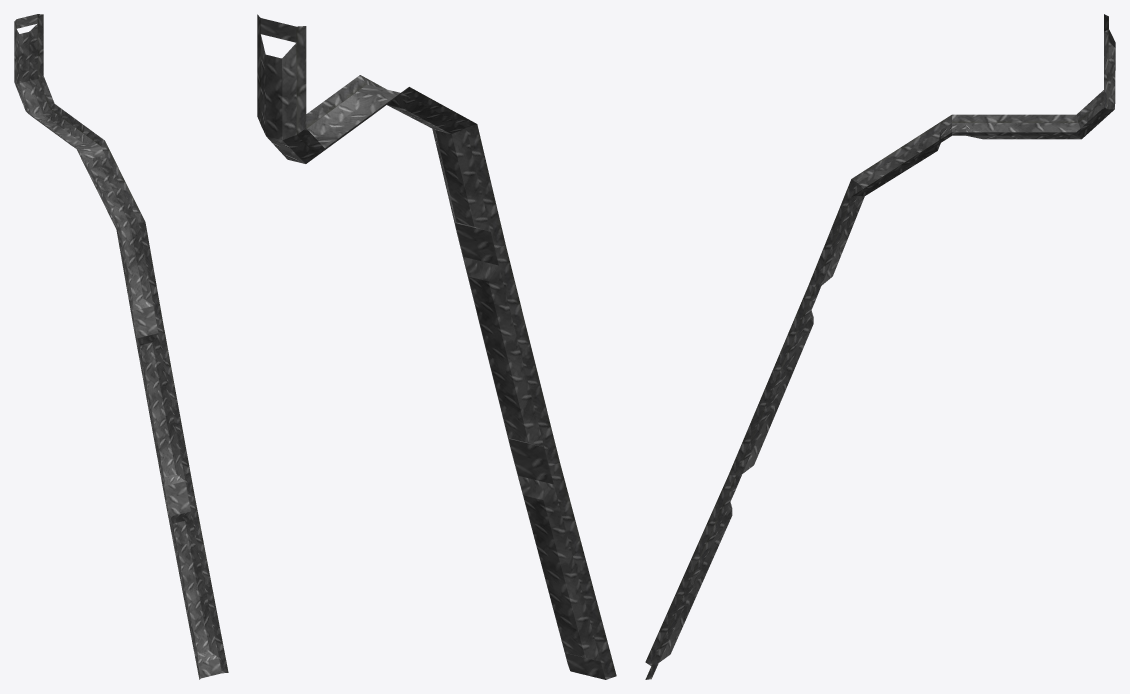
File: zid_bocni2_testiram.obj
The picture shows the model from 3 angles, left to right: view 1: azimuth 30°, elevation 25°; view 2: azimuth 150°, elevation 25°; view 3: azimuth 270°, elevation 25°; orthographic projection. The views are drawn at different scales.
Bounding box in the file's own units: 0.0859 × 1.48 × 0.968.
Materials: 1 (1 with a texture image).
